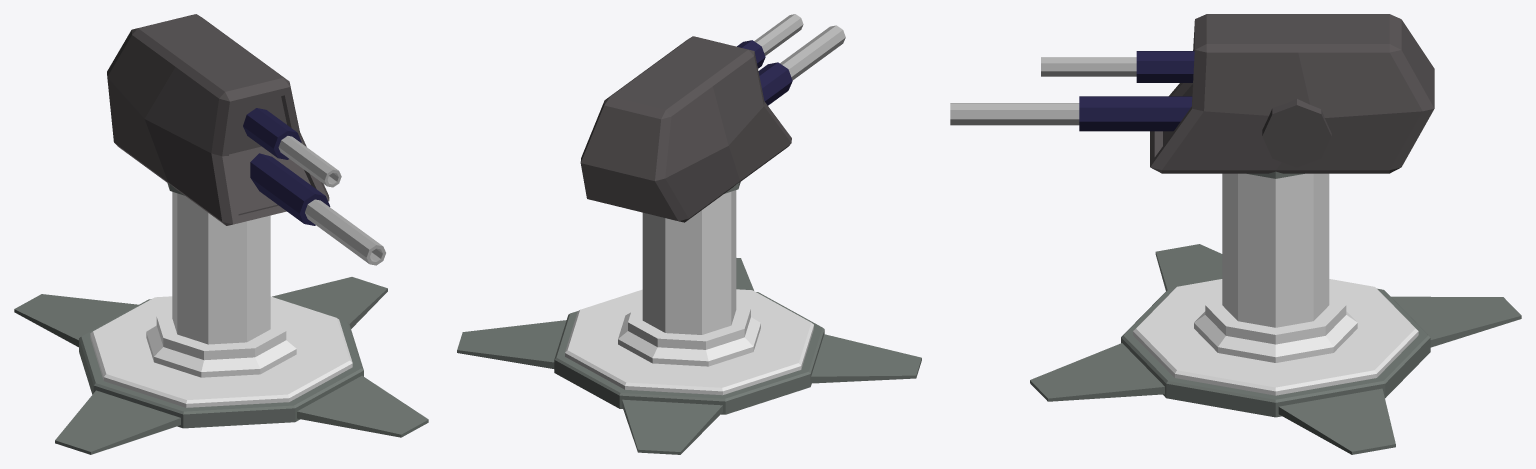
File: turret2.fbx
3 views of the same model, side by side, from view 1: azimuth 30°, elevation 25°; view 2: azimuth 150°, elevation 25°; view 3: azimuth 270°, elevation 25° (orthographic). The views are drawn at different scales.
Parts seen in each view (by area): view 1: Circle.001, Cube, Circle.005, Circle.003, Circle.004, Circle.002; view 2: Circle.001, Cube, Circle.003, Circle.005, Circle.002; view 3: Circle.001, Cube, Circle.005, Cube.001, Circle.003, Circle.002, Circle.004.
Part boxes in pixels (x1=…): Circle.001: x1=14, y1=183, x2=428, y2=454; Cube: x1=107, y1=14, x2=329, y2=225; Circle.005: x1=250, y1=153, x2=330, y2=225; Circle.003: x1=305, y1=199, x2=385, y2=265; Circle.004: x1=243, y1=108, x2=301, y2=159; Circle.002: x1=278, y1=136, x2=341, y2=187; Circle.001: x1=457, y1=182, x2=921, y2=454; Cube: x1=580, y1=36, x2=791, y2=222; Circle.003: x1=780, y1=25, x2=845, y2=80; Circle.005: x1=758, y1=62, x2=792, y2=105; Circle.002: x1=754, y1=14, x2=803, y2=55; Circle.001: x1=1030, y1=171, x2=1521, y2=454; Cube: x1=1150, y1=14, x2=1434, y2=173; Circle.005: x1=1079, y1=96, x2=1192, y2=131; Cube.001: x1=1262, y1=99, x2=1331, y2=167; Circle.003: x1=950, y1=103, x2=1079, y2=125; Circle.002: x1=1041, y1=57, x2=1136, y2=76; Circle.004: x1=1136, y1=51, x2=1194, y2=82.
Bounding box in the file's own units: 254 × 295 × 184.
